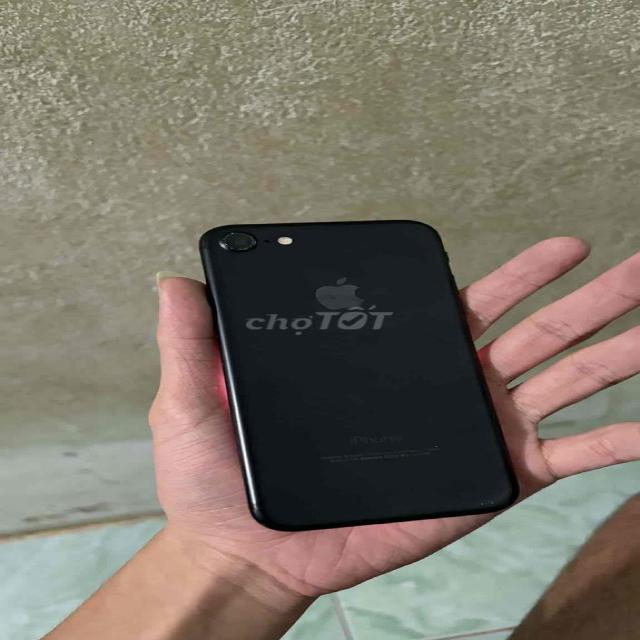scratch: (220, 228, 262, 250), (468, 498, 501, 508), (431, 440, 448, 453)
